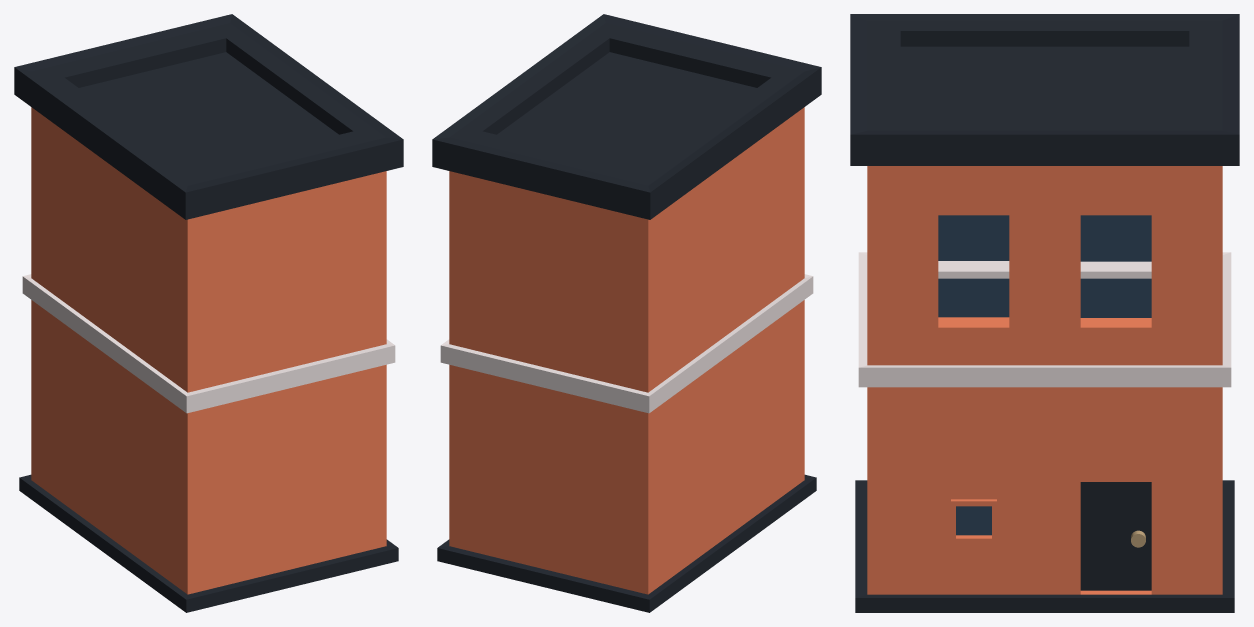
The model's file is house3.fbx.
The picture shows the model from 3 angles, left to right: view 1: azimuth 30°, elevation 25°; view 2: azimuth 150°, elevation 25°; view 3: azimuth 270°, elevation 25°; orthographic projection. The views are drawn at different scales.
Parts seen in each view (by area): view 1: Cube; view 2: Cube; view 3: Cube.
Part boxes in pixels (box(x1,y1,x2,y2)): Cube: box(14, 14, 403, 612); Cube: box(432, 14, 821, 612); Cube: box(850, 14, 1239, 612).
Bounding box in the file's own units: 422 × 783 × 575.
